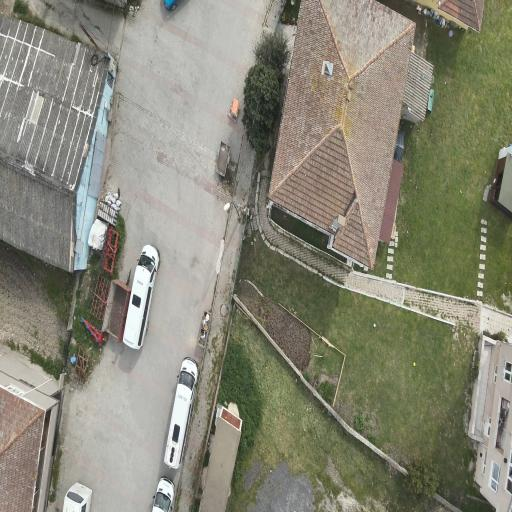car: (123, 245, 159, 349), (164, 358, 198, 468), (63, 483, 92, 511), (152, 477, 174, 511), (164, 0, 182, 10)
